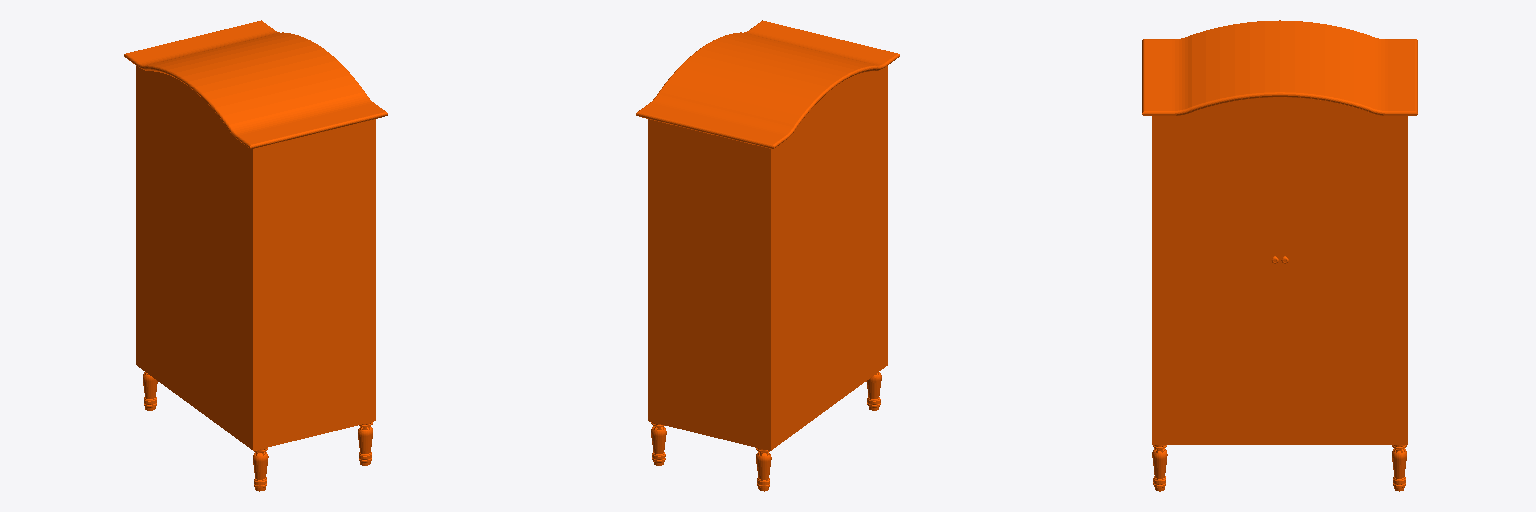
robot.urdf — Armoire_a9a82305837dc3615c3654528317cdb2:
<?xml version="1.0" ?>
<robot name="Armoire_a9a82305837dc3615c3654528317cdb2">
   <material name="obj_color">
      <color rgba="1.0 0.423529411765 0.0392156862745 1.0"/>
   </material>
   <link name="top">
      <inertial>
         <origin rpy="0.001196164485771468 0.0026983168321542 0.003227651254350599" xyz="-0.001706352757954096 -9.233208483215374e-05 -0.01574014988335697"/>
         <mass value="1.02731464467024"/>
         <inertia ixx="0.003227638460937048" ixy="1.491287405298372e-08" ixz="5.097937988560949e-06" iyy="0.002698315523090845" iyz="-1.40238606812612e-06" izz="0.001196178588248376"/>
      </inertial>
      <visual>
         <origin rpy="0 0 0" xyz="0 0 0"/>
         <geometry>
            <mesh filename="top_watertight_tiny.stl" scale="1 1 1"/>
         </geometry>
         <material name="obj_color"/>
      </visual>
      <collision>
         <origin rpy="0 0 0" xyz="0 0 0"/>
         <geometry>
            <mesh filename="top_watertight_tiny.obj" scale="1 1 1"/>
         </geometry>
      </collision>
   </link>
   <link name="bottom">
      <inertial>
         <origin rpy="1.633333333199431e-08 1.633333333199431e-08 1.633333333362855e-08" xyz="0.3464080000000008 0.3464080000000008 0.3464080000000008"/>
         <mass value="0.0009800000000000017"/>
         <inertia ixx="1.633333333253906e-08" ixy="5.447480642029219e-19" ixz="5.447480642029219e-19" iyy="1.633333333253906e-08" iyz="5.447480642029219e-19" izz="1.633333333253906e-08"/>
      </inertial>
      <visual>
         <origin rpy="0 0 0" xyz="0 0 0"/>
         <geometry>
            <mesh filename="bottom_watertight_tiny.stl" scale="1 1 1"/>
         </geometry>
         <material name="obj_color"/>
      </visual>
   </link>
   <joint name="rotation" type="revolute">
      <origin xyz="0 0 0"/>
      <axis xyz="0 0 -1"/>
      <parent link="bottom"/>
      <child link="top"/>
      <dynamics damping="1.0" friction="1.0"/>
      <limit effort="0.1" velocity="0.1" lower="0" upper="0.001"/>
   </joint>
</robot>

--- What the picture shows (computed from the rendered views, not written in the file) ---
3 views of the same robot in one strip: view 1: azimuth 30°, elevation 25°; view 2: azimuth 150°, elevation 25°; view 3: azimuth 270°, elevation 25° (orthographic).
Robot: Armoire_a9a82305837dc3615c3654528317cdb2 — 2 links, 1 joints (1 revolute); root link bottom; default pose: every joint at zero.
Links seen in each view (by area): view 1: top; view 2: top; view 3: top.
Boxes of the visible links, x1,y1,x2,y2 form: top: (124,20,387,491); top: (636,20,899,491); top: (1142,20,1417,491).
Bounding box of the posed robot: 0.0663 × 0.1051 × 0.1702 m (x, y, z).
1 mesh visuals loaded from 2 distinct referenced files (1 binary STL); not drawn: 1 (reference not matched to a file when rendering).
